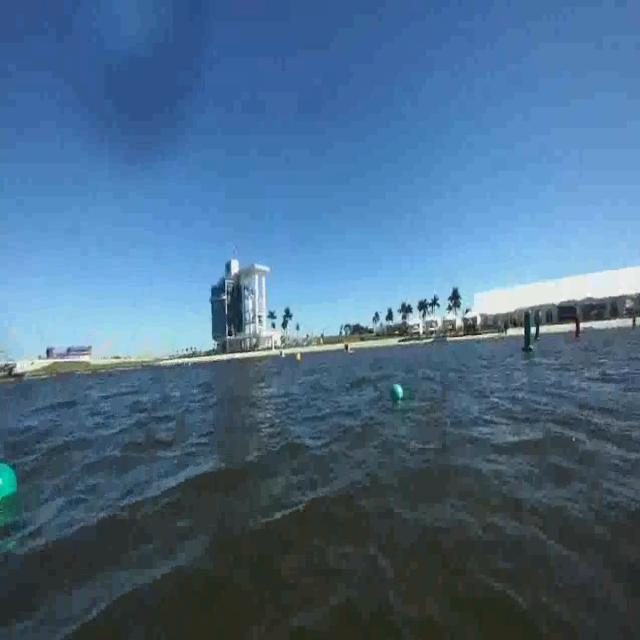green-buoy: (0, 463, 20, 506), (391, 384, 402, 400)
green-column-buoy: (522, 312, 535, 354), (534, 316, 542, 343)
red-column-buoy: (572, 315, 582, 340), (632, 308, 638, 326)
yellow-buoy: (295, 352, 301, 363)
